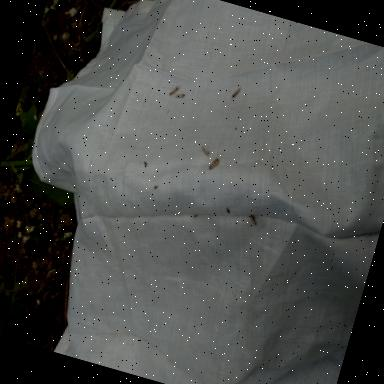pbw: (168, 84, 180, 98), (208, 157, 220, 171), (199, 144, 211, 156), (248, 214, 259, 226), (232, 86, 240, 99), (174, 92, 184, 100)
